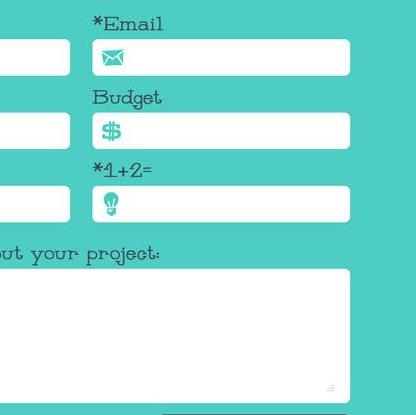field: (92, 182, 350, 224), (90, 36, 351, 77), (90, 110, 352, 150)
field_with_label: (88, 15, 354, 79), (88, 90, 356, 153), (88, 163, 352, 226)
